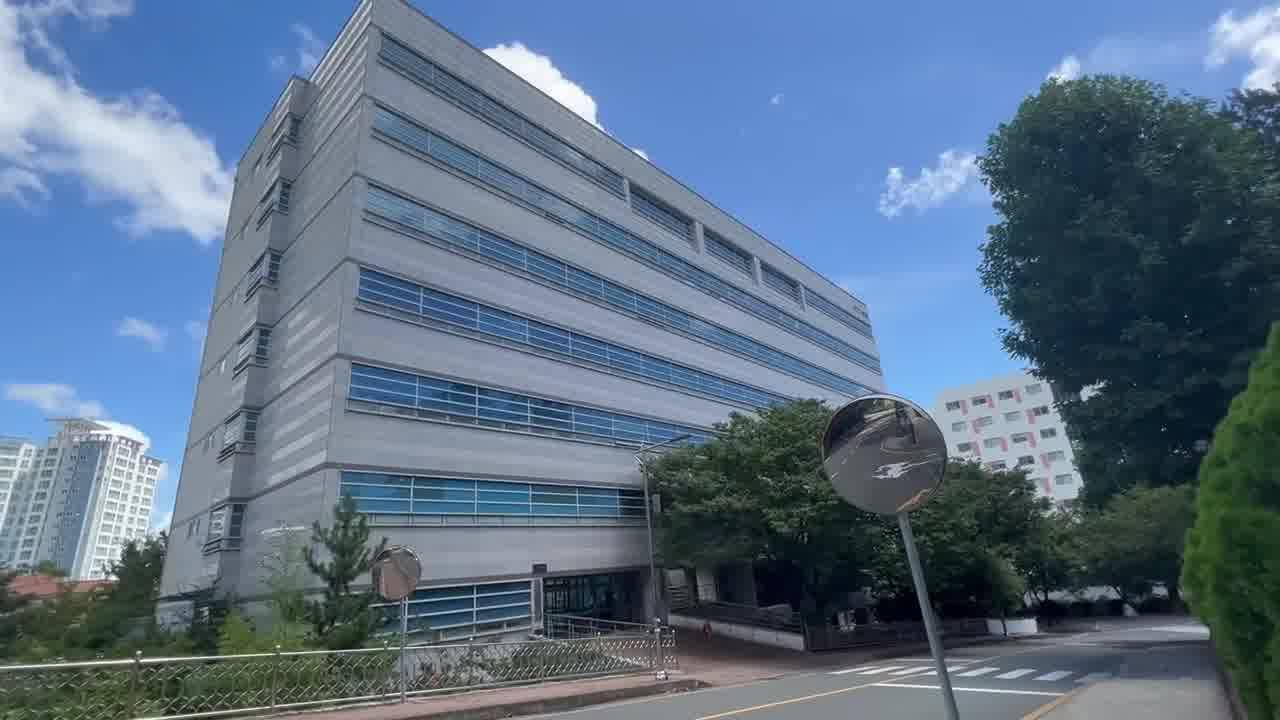building: (188, 20, 686, 614)
